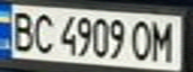0: (90, 15, 112, 58)
4: (54, 11, 78, 56)
9: (109, 16, 130, 61), (72, 14, 93, 57)
B: (6, 8, 36, 53)
C: (30, 10, 57, 54)
M: (148, 17, 181, 64)
O: (127, 17, 157, 62)
